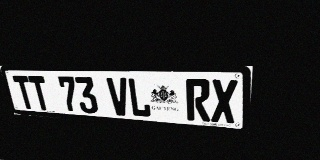3: (74, 77, 99, 114)
7: (56, 76, 81, 113)
L: (127, 78, 152, 118)
R: (186, 79, 210, 122)
T: (28, 76, 52, 111), (12, 76, 36, 110)
V: (106, 77, 131, 116)
X: (211, 79, 238, 124)
